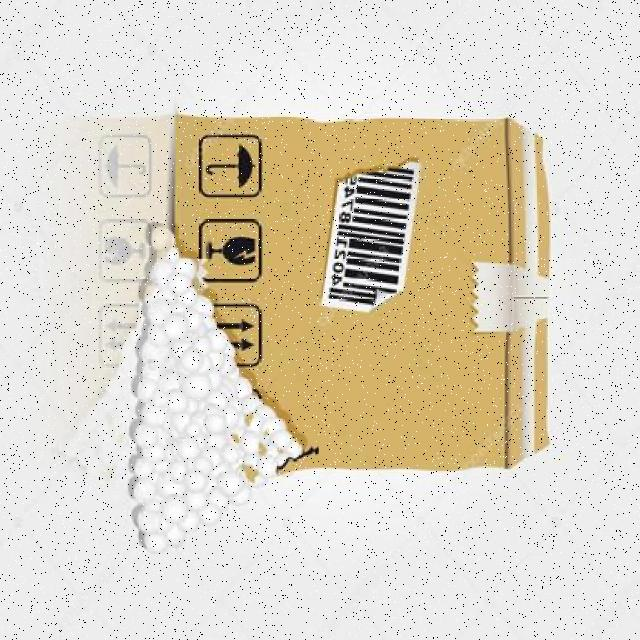defect: (166, 104, 552, 473)
